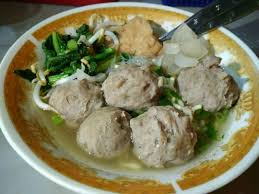bakso: (59, 15, 232, 181)
